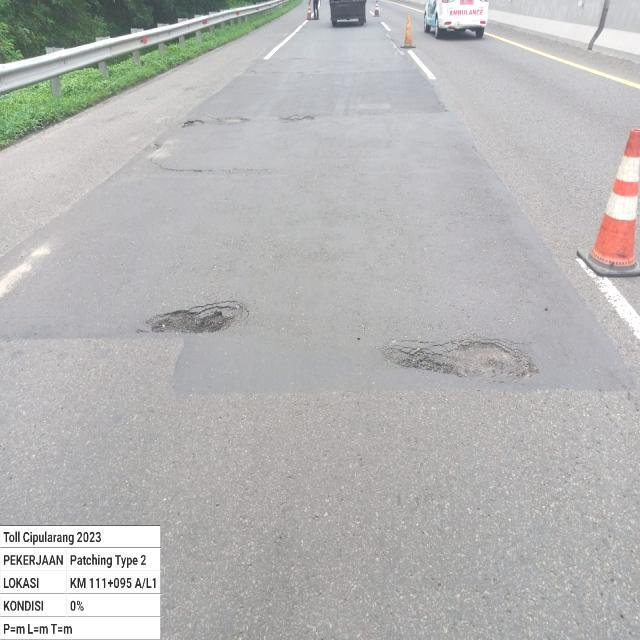Buraco: (378, 335, 544, 386), (143, 298, 251, 338), (278, 112, 317, 123), (216, 115, 250, 126), (180, 118, 207, 130)
